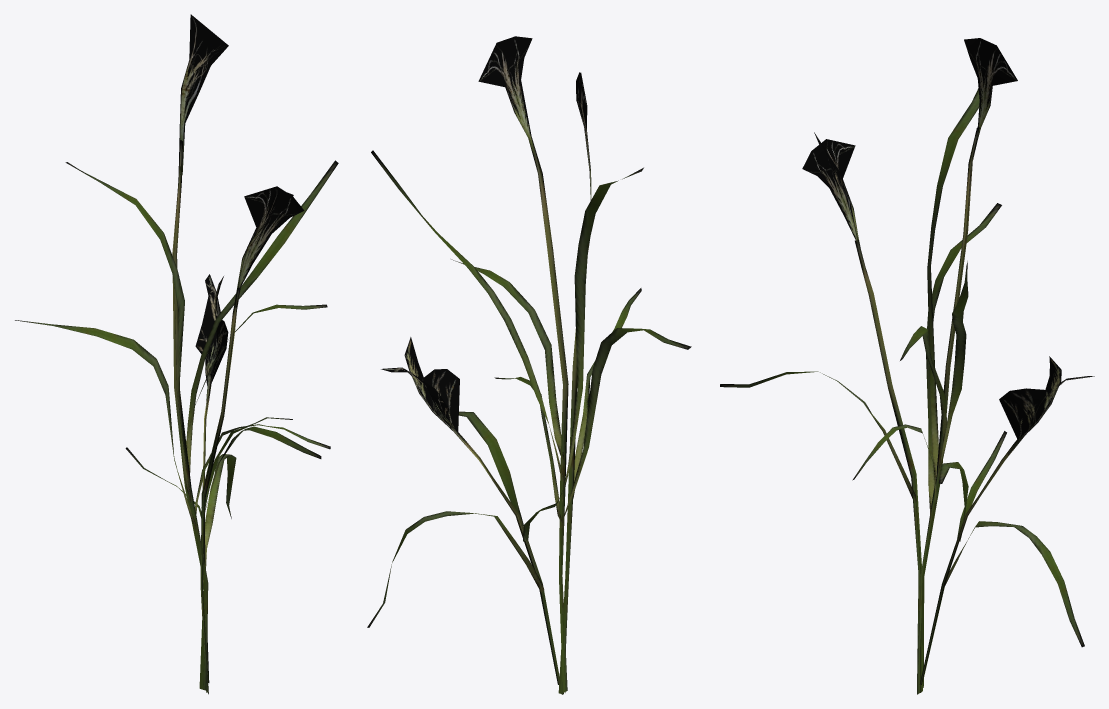
File: touffe.glb
The picture shows the model from 3 angles, left to right: view 1: azimuth 30°, elevation 25°; view 2: azimuth 150°, elevation 25°; view 3: azimuth 270°, elevation 25°; orthographic projection. The views are drawn at different scales.
Parts seen in each view (by area): view 1: touffe; view 2: touffe; view 3: touffe.
Boxes of the visible parts, x1=… form: touffe: x1=15, y1=14, x2=338, y2=694; touffe: x1=367, y1=36, x2=691, y2=694; touffe: x1=720, y1=38, x2=1094, y2=694.
Size of the model in its own units: 0.1697 by 0.34 by 0.1671.
Materials: 1 (1 with a texture image).
